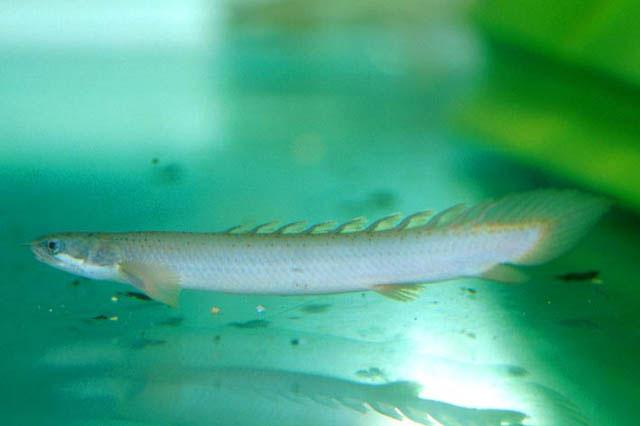Mulut: (18, 228, 62, 270)
Sirip Anal: (471, 254, 543, 300)
Sirip Dada: (114, 250, 198, 317)
Sirip Ekor: (486, 172, 622, 268)
Sirip Perut: (363, 269, 435, 313)
Sirip Punggung: (210, 193, 508, 250)
